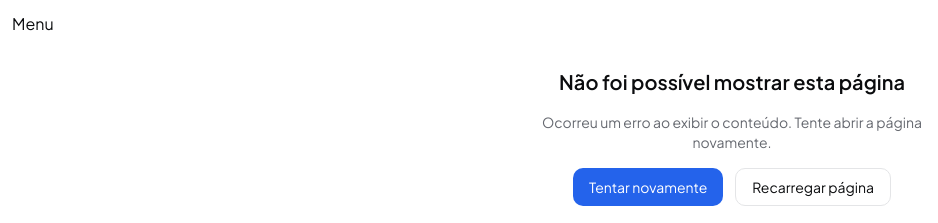
preserva a navegação, mostra o erro e permite tentar novamente
Expected: the navigation bar reads "Menu", [12,13,54,34]
Expected: the message shows "Não foi possível mostrar esta página", [559,69,905,94]
Step 1. Click the button "Tentar novamente" → {"x": 648, "y": 187}, box [573,168,723,206]
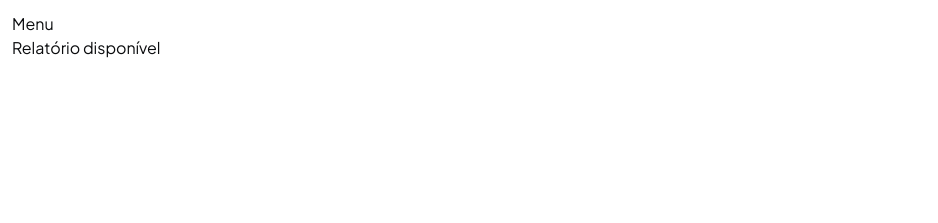
Expected: the text "Relatório disponível" is shown, [12,37,160,58]
